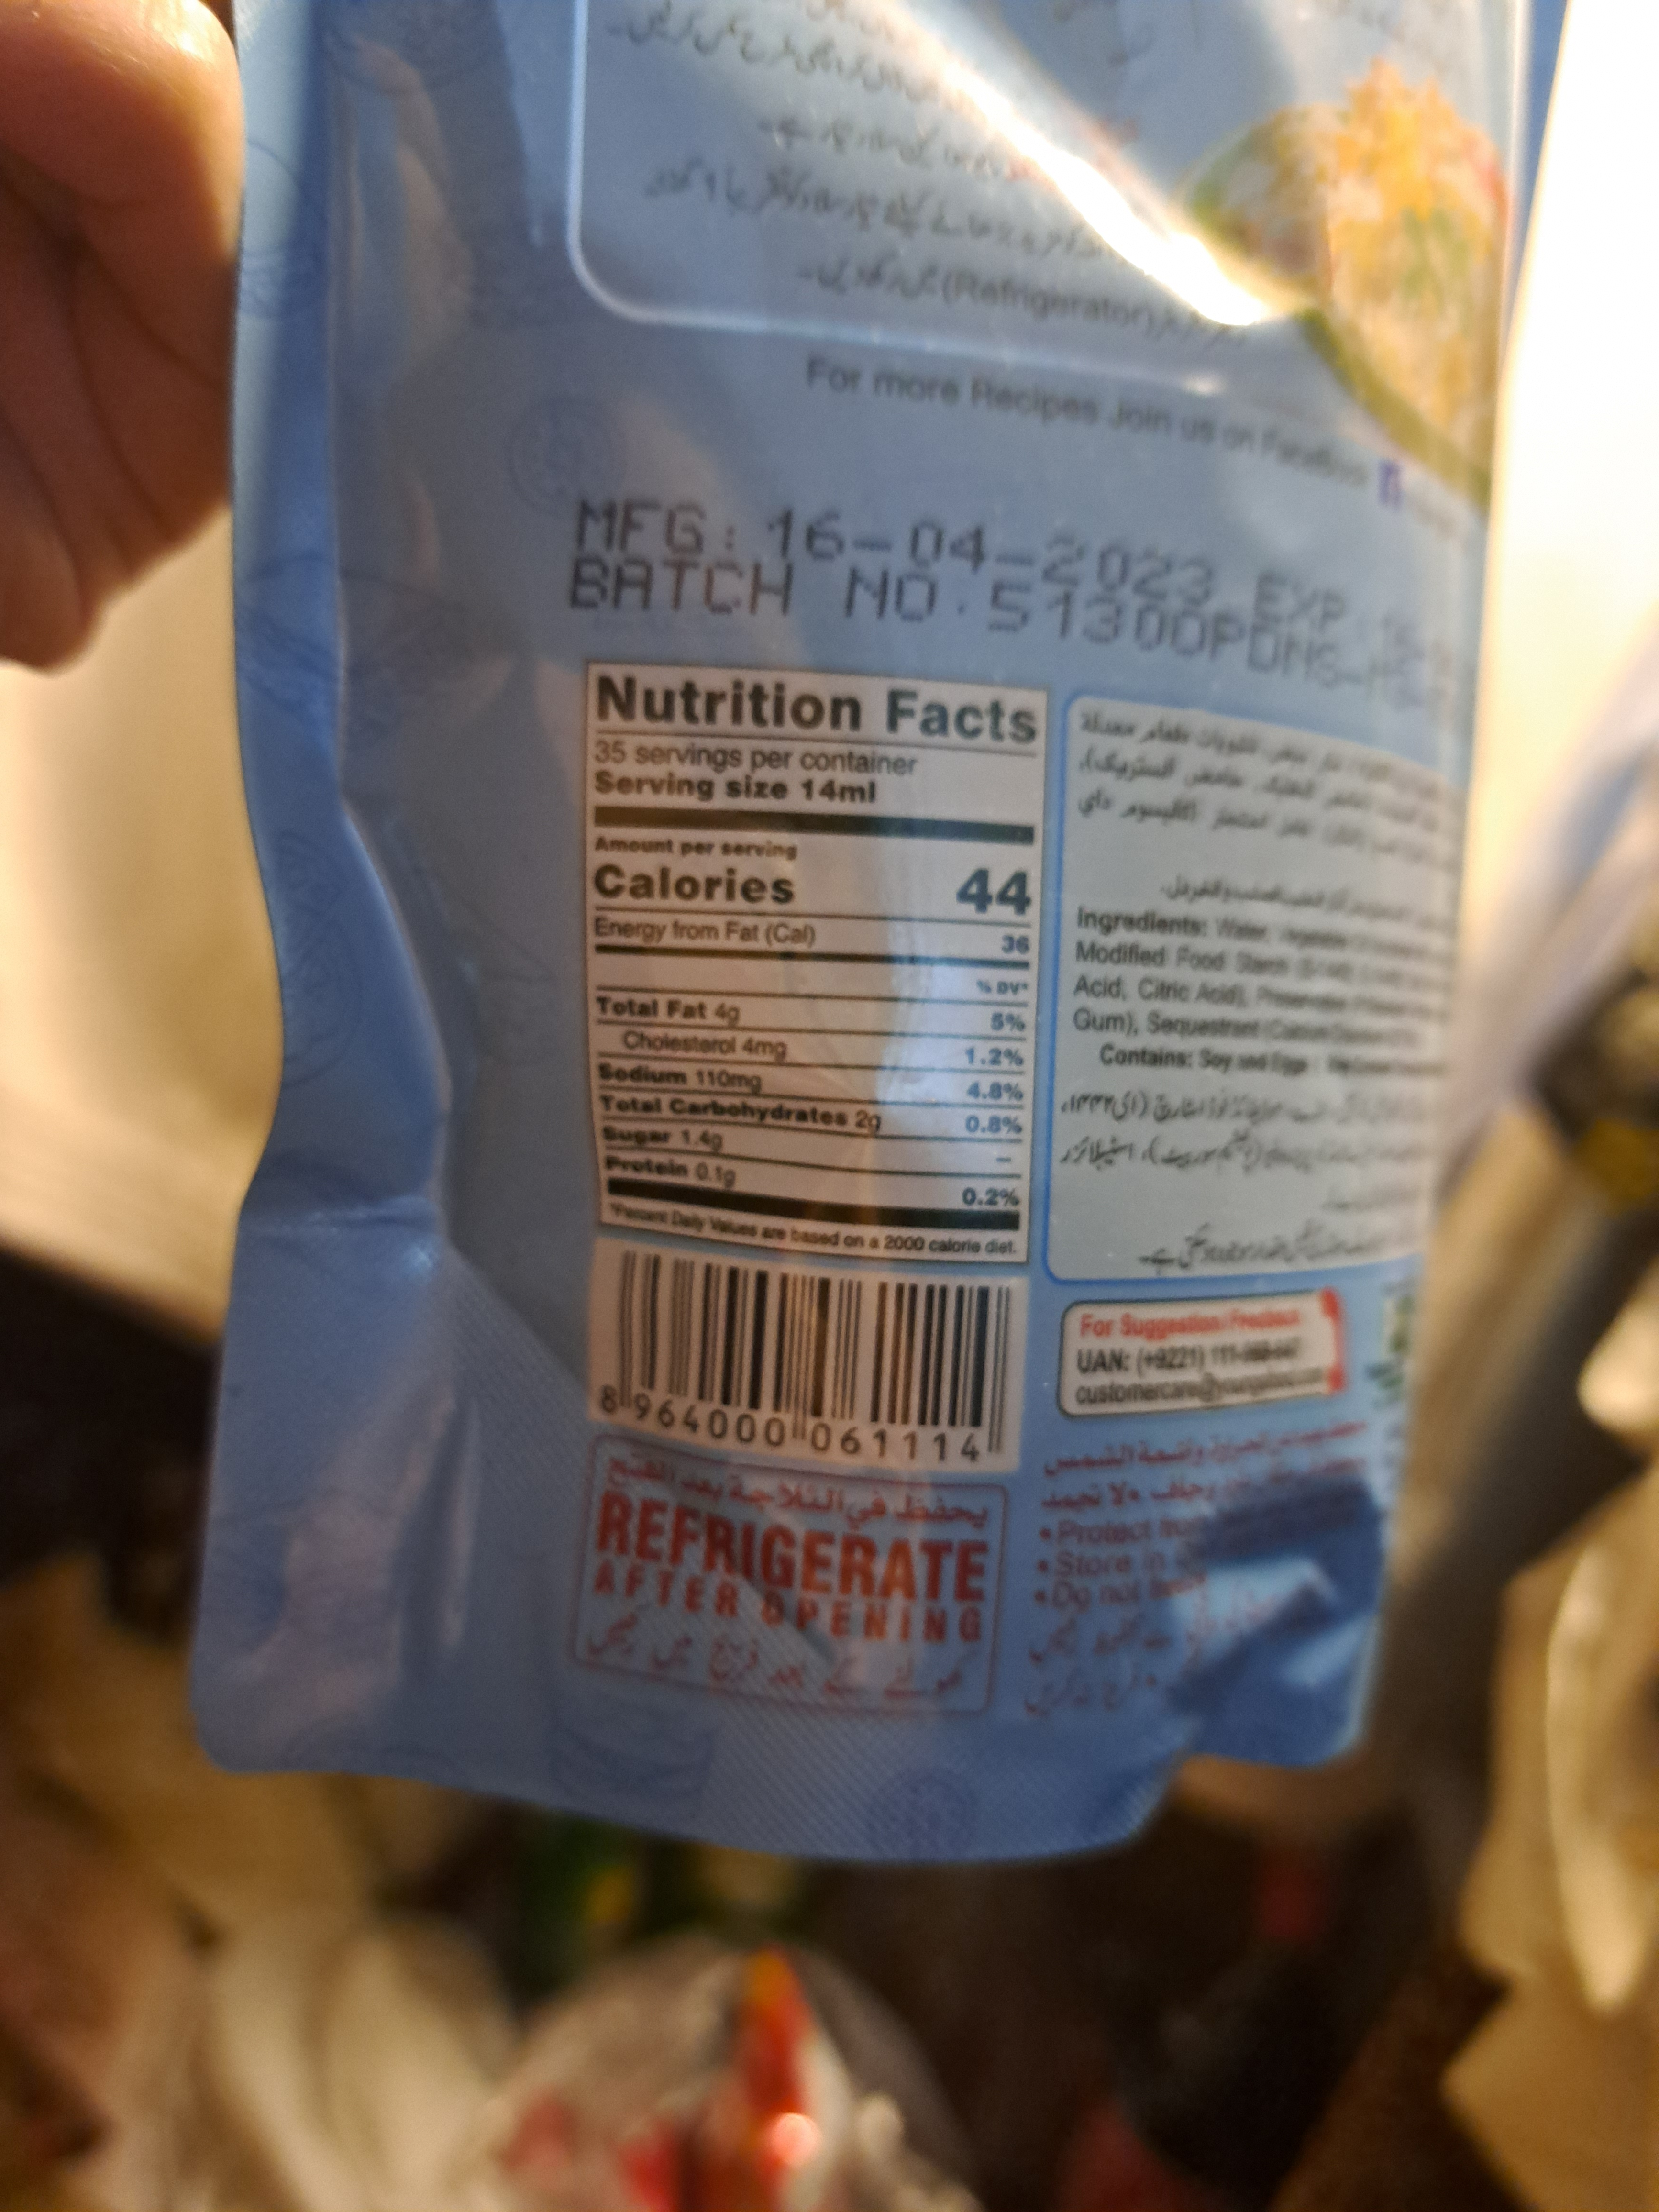table: (572, 660, 1035, 1270)
